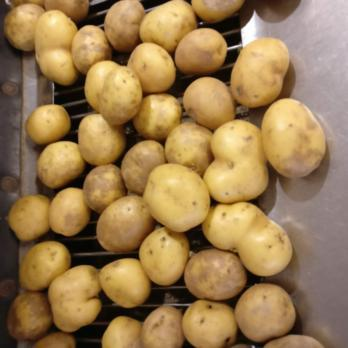Solid potato: (3, 0, 326, 348)
